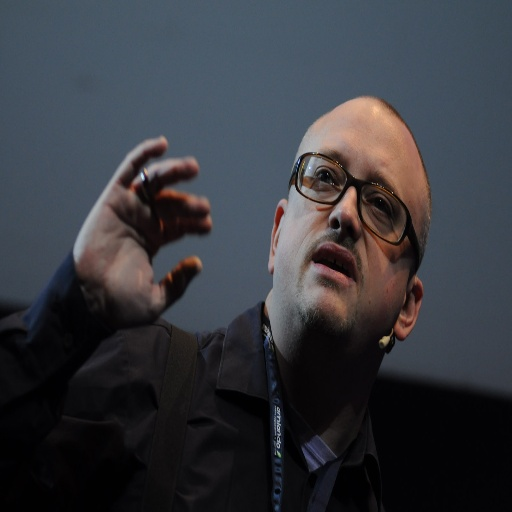hand: (60, 159, 207, 333)
